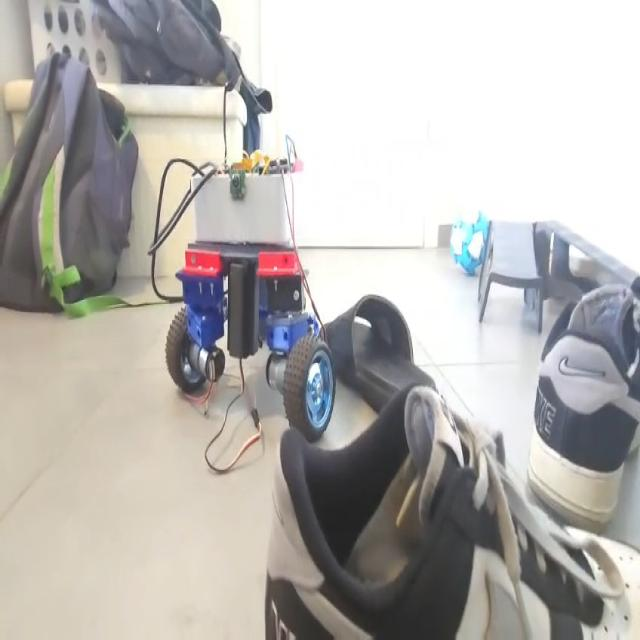Robot: (166, 126, 340, 444)
